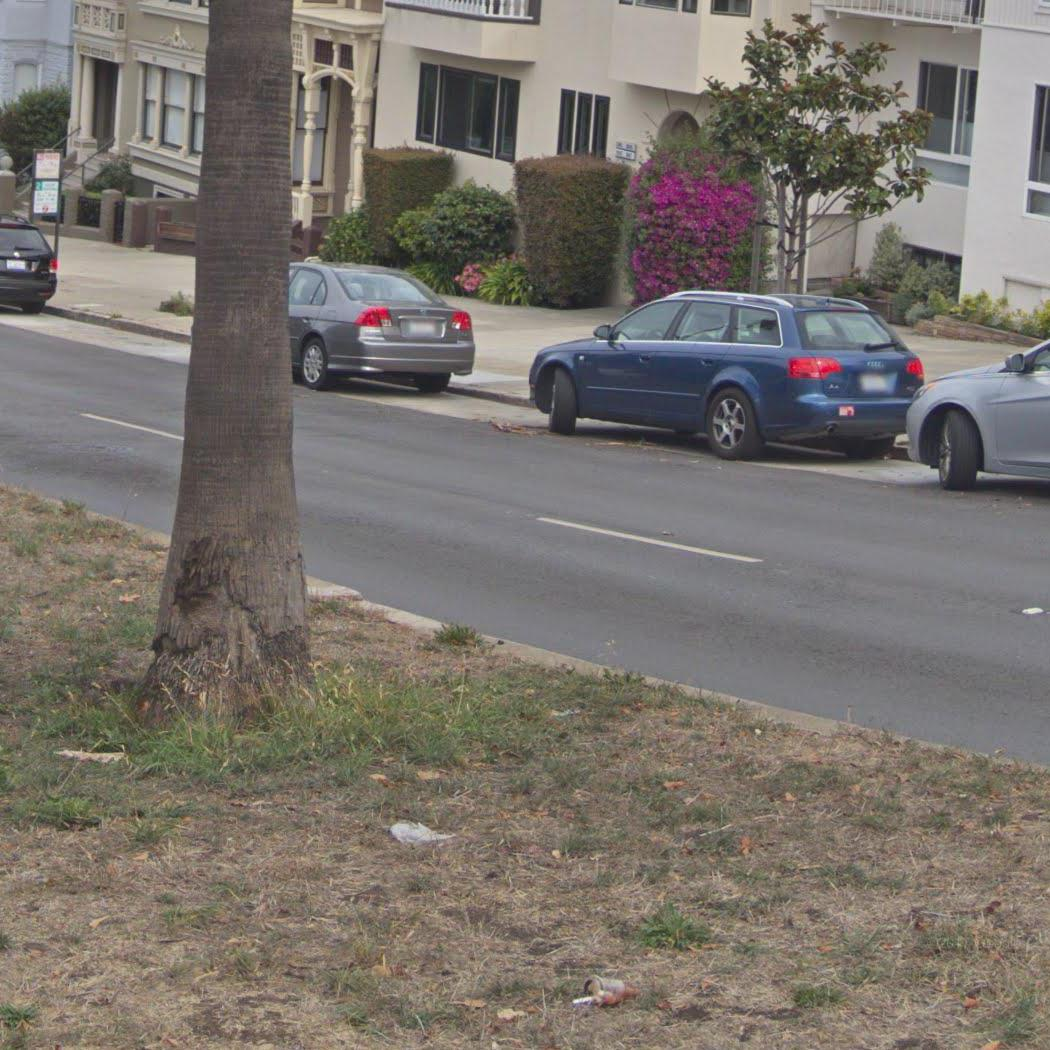2 Hour Parking: (31, 181, 61, 215)
No Parking: (33, 151, 62, 180)
